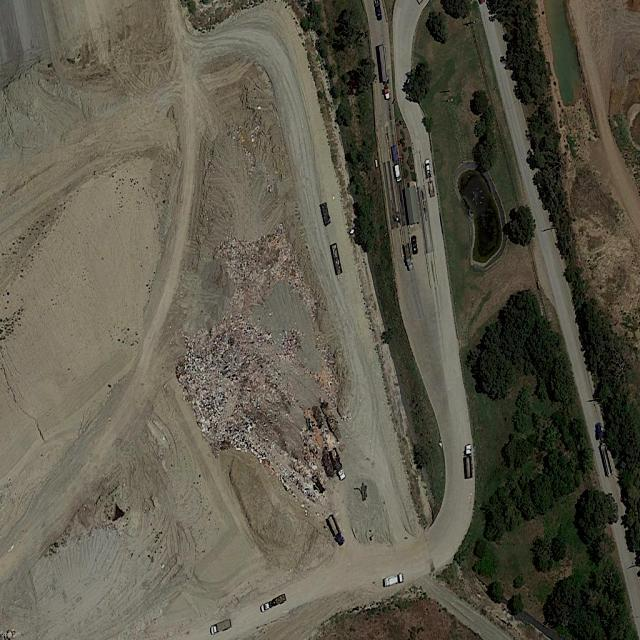dump_site: (156, 283, 356, 514), (211, 220, 320, 334)
